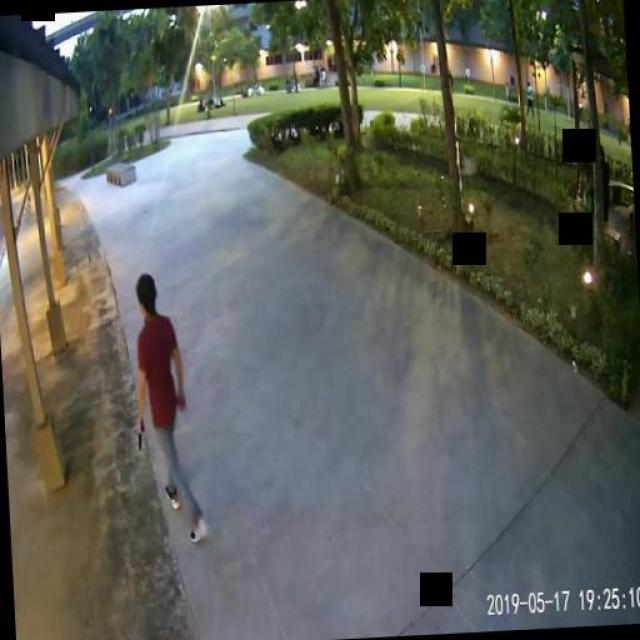gun: (135, 416, 144, 450)
